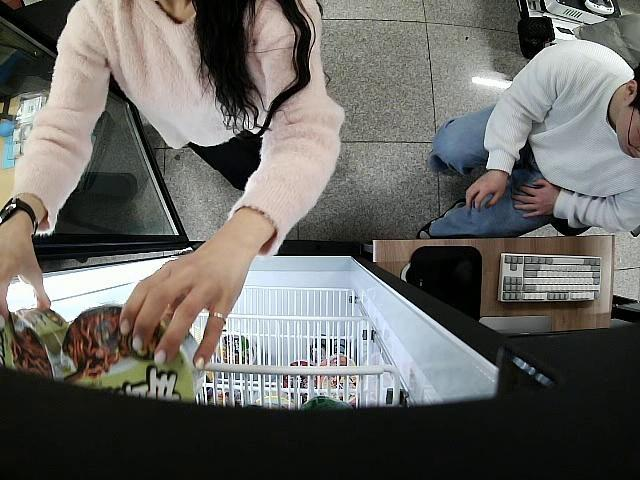03_chapagetti_L: (62, 302, 205, 403), (0, 302, 69, 380)
